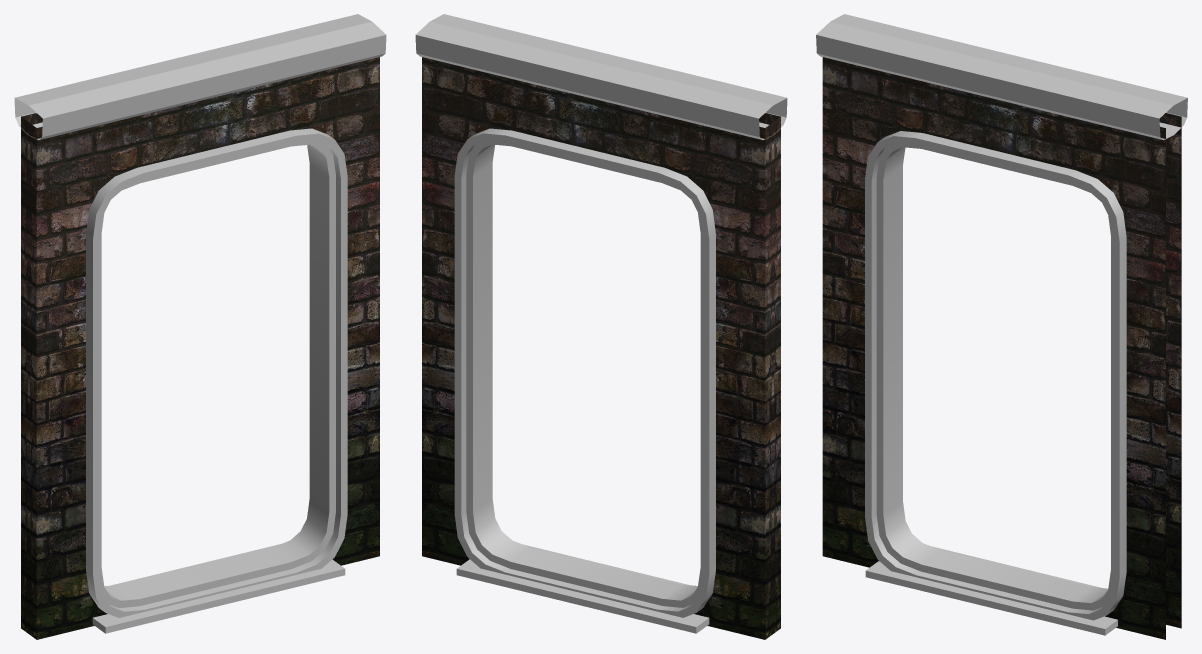
The model's file is sewer_doorway_02.DAE.
The picture shows the model from 3 angles, left to right: view 1: azimuth 30°, elevation 25°; view 2: azimuth 150°, elevation 25°; view 3: azimuth 330°, elevation 25°; orthographic projection.
Visible parts, largest first — view 1: door_frame_wall001, Object019; view 2: door_frame_wall001, Object019; view 3: door_frame_wall001, Object019.
Boxes of the visible parts, box(x1,y1,x2,y2) form: door_frame_wall001: box(21, 57, 379, 639); Object019: box(14, 14, 386, 633); door_frame_wall001: box(422, 57, 780, 639); Object019: box(415, 14, 787, 633); door_frame_wall001: box(822, 57, 1181, 639); Object019: box(816, 14, 1187, 635).
Bounding box in the file's own units: 2.02 × 0.4227 × 2.98.
